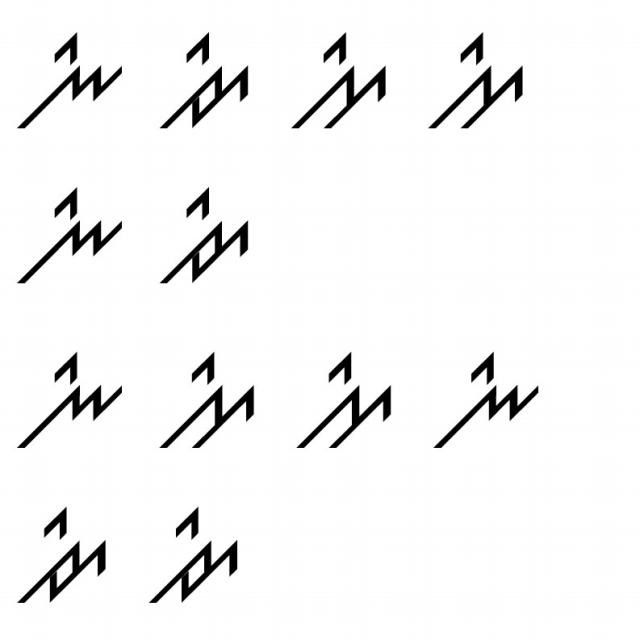ji: (6, 494, 114, 608), (158, 184, 265, 294), (139, 502, 247, 608), (152, 26, 252, 140)
nyi: (432, 341, 549, 457), (10, 26, 130, 139), (9, 182, 128, 294), (10, 344, 130, 454)
si: (277, 22, 398, 138), (411, 28, 531, 144), (286, 343, 396, 465), (158, 344, 268, 455)
